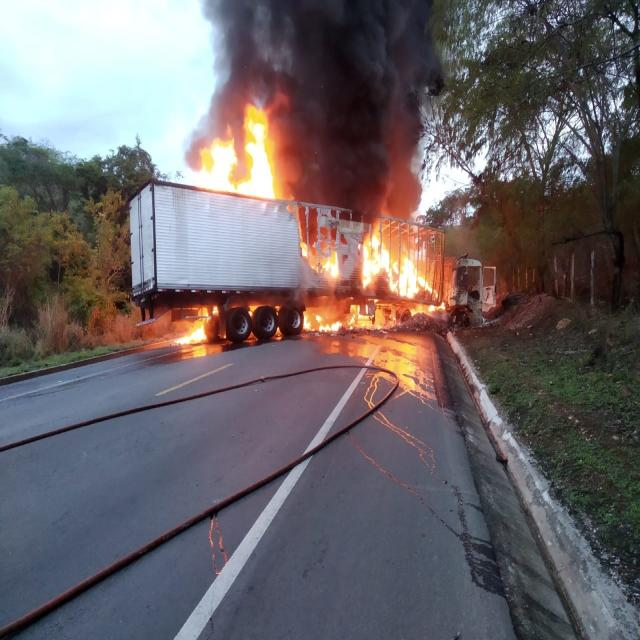fire: (201, 132, 275, 202), (356, 237, 429, 307)
smoke: (285, 7, 413, 208)
